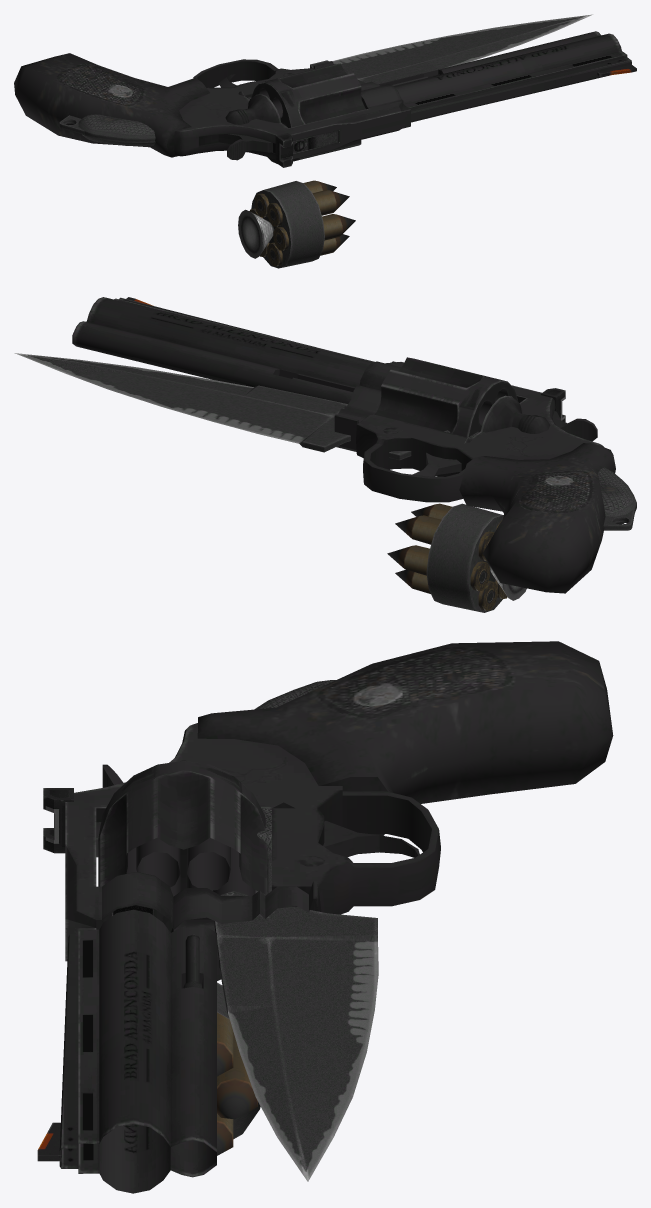
File: viewmodel_colt_anaconda_LOD0.obj
3 views of the same model, one above another, from view 1: azimuth 30°, elevation 25°; view 2: azimuth 150°, elevation 25°; view 3: azimuth 270°, elevation 25° (orthographic). The views are drawn at different scales.
Visible parts, largest first — view 1: mtl_weapon_colt_anaconda_44, mtl_weapon_bolo_knife; view 2: mtl_weapon_colt_anaconda_44, mtl_weapon_bolo_knife; view 3: mtl_weapon_colt_anaconda_44, mtl_weapon_bolo_knife.
Boxes of the visible parts, <box> form: mtl_weapon_colt_anaconda_44: <box>14,31,636,268</box>; mtl_weapon_bolo_knife: <box>59,14,592,146</box>; mtl_weapon_colt_anaconda_44: <box>72,297,615,612</box>; mtl_weapon_bolo_knife: <box>14,353,636,530</box>; mtl_weapon_colt_anaconda_44: <box>37,641,613,1193</box>; mtl_weapon_bolo_knife: <box>214,680,378,1181</box>.
Bounding box in the file's own units: 40.89 × 13.79 × 19.73.
2 materials, 2 textured.
